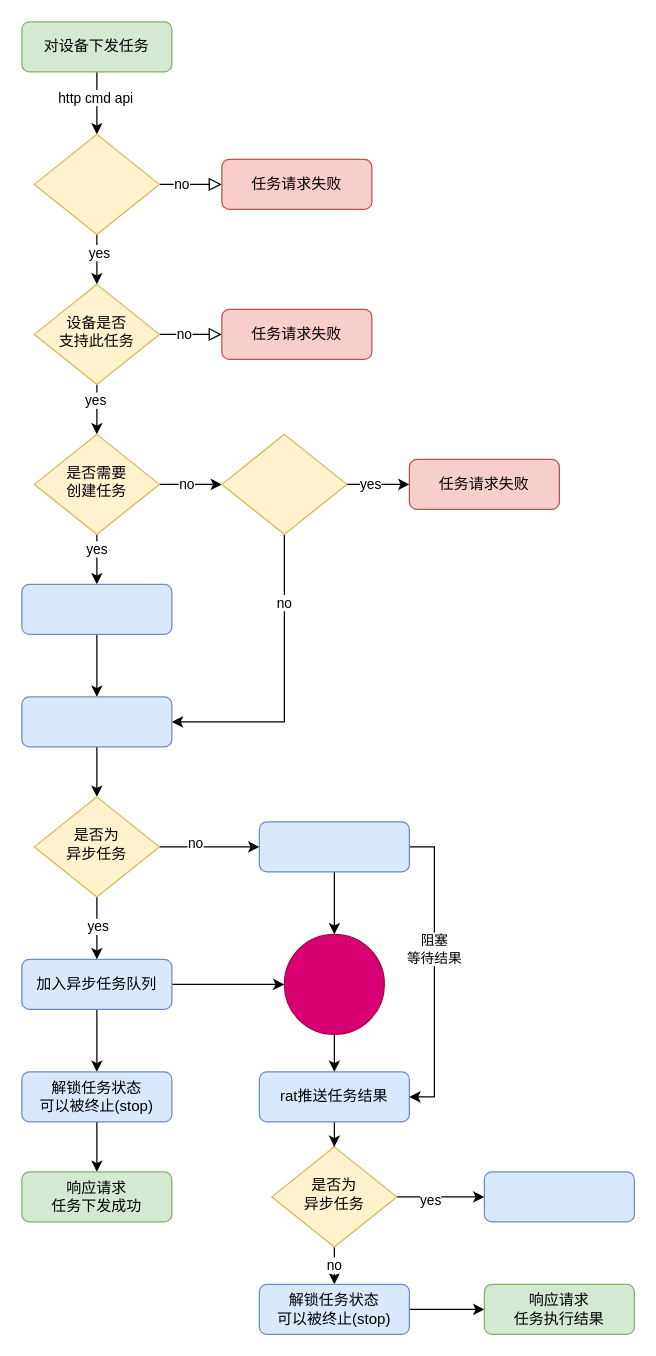
This 656x1356 diagram has some shape labels left out. The shapes that lost their labels are listed below. From the top down, each one's centre as x and y in pixels, then its label:
(96,183): 设备是否在线
(284,483): 任务是 在runing
(96,608): 创建并初始 化任务参数
(96,721): 设置任务 禁止打断(runing)
(333,846): 直接下发到rat
(333,983): RAT
(558,1196): 变更设备 异步任务状态
